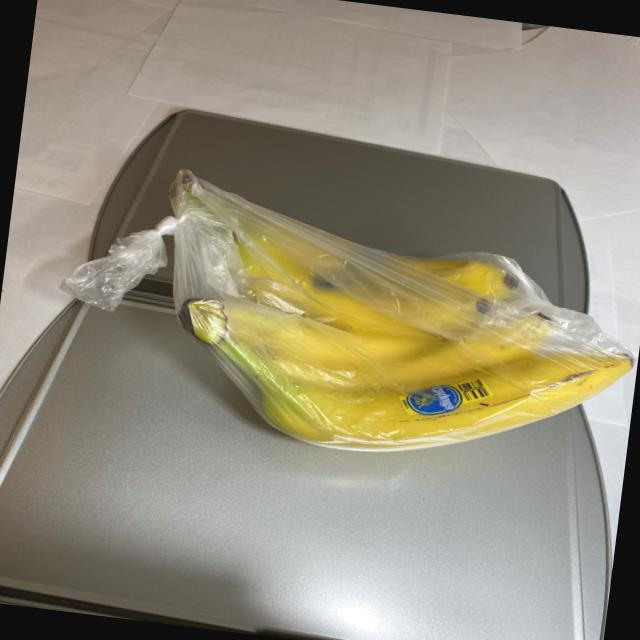banana: (118, 165, 640, 486)
